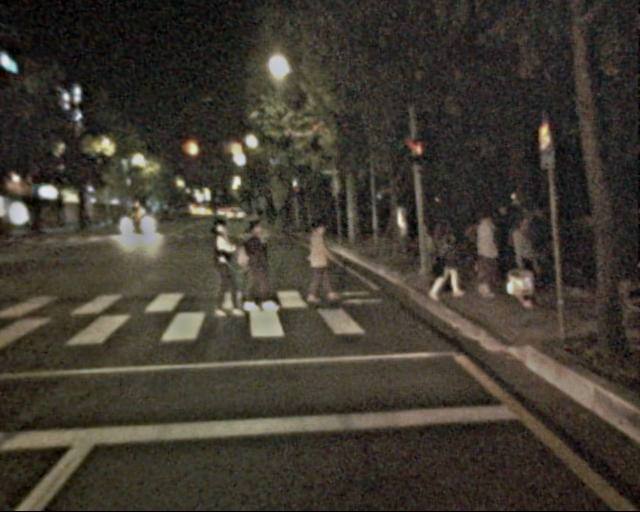person: (200, 216, 242, 319), (235, 215, 275, 312), (425, 213, 461, 302), (300, 218, 336, 306), (469, 215, 505, 303), (504, 222, 540, 310), (490, 202, 522, 281), (522, 206, 553, 282)
